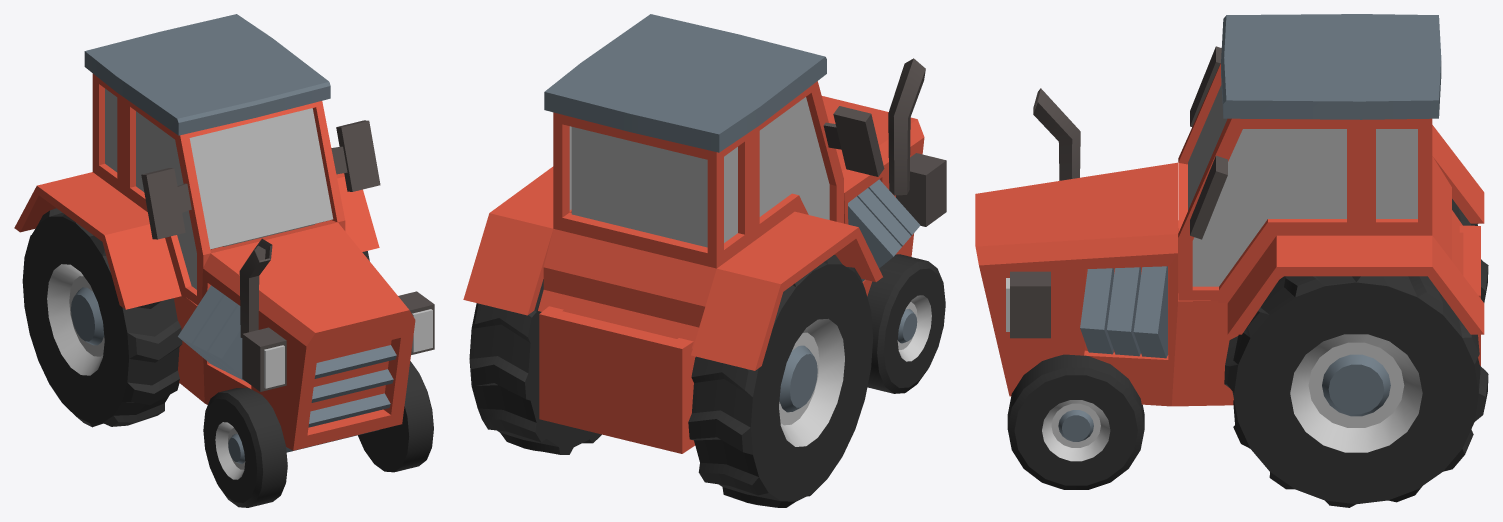
Rendered from Tractor.fbx.
3 renders of one model, left to right at view 1: azimuth 30°, elevation 25°; view 2: azimuth 150°, elevation 25°; view 3: azimuth 270°, elevation 25°, orthographic. The views are drawn at different scales.
Parts seen in each view (by area): view 1: Tractor; view 2: Tractor; view 3: Tractor.
Part boxes in pixels (x1=…): Tractor: x1=14, y1=14, x2=434, y2=507; Tractor: x1=463, y1=14, x2=946, y2=507; Tractor: x1=975, y1=14, x2=1488, y2=507.
Size of the model in its own units: 66.63 by 84.25 by 102.
